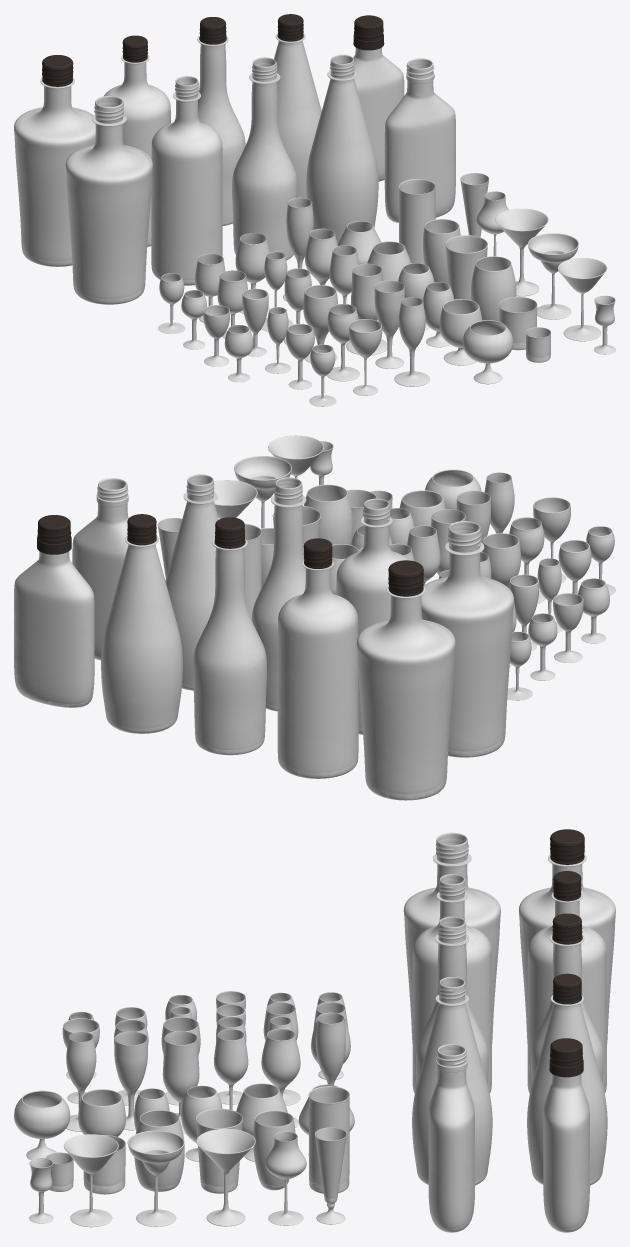
Rendered from the_ultimate_glass_pack_cups_and_bottles.glb.
3 renders of one model, top to bottom at view 1: azimuth 30°, elevation 25°; view 2: azimuth 150°, elevation 25°; view 3: azimuth 270°, elevation 25°, orthographic. The views are drawn at different scales.
Parts seen in each view (by area): view 1: Cylinder.047, Cylinder.045, Cylinder.046, Cylinder.041, Cylinder.043, Cube.001, Cylinder.040, Cylinder.042, Cube, Cylinder.044, Cylinder.001, Cylinder.003 (+38 smaller); view 2: Cylinder.046, Cylinder.044, Cylinder.047, Cylinder.040, Cube, Cylinder.042, Cylinder.041, Cylinder.043, Cube.001, Cylinder.045, Cylinder.003, Cylinder.025 (+27 smaller); view 3: Cube, Cube.001, Cylinder.041, Cylinder.040, Cylinder.044, Cylinder.045, Cylinder.046, Cylinder.047, Cylinder.042, Cylinder.043, Cylinder.001, Cylinder.011 (+26 smaller).
Boxes of the visible parts, box(x1,y1,x2,y2) form: Cylinder.047: box(65, 96, 152, 304); Cylinder.045: box(151, 76, 222, 285); Cylinder.046: box(14, 55, 95, 266); Cylinder.041: box(306, 54, 378, 243); Cylinder.043: box(232, 57, 297, 260); Cube.001: box(384, 58, 455, 222); Cylinder.040: box(274, 14, 321, 198); Cylinder.042: box(197, 17, 245, 225); Cube: box(353, 15, 404, 181); Cylinder.044: box(104, 35, 170, 246); Cylinder.001: box(399, 179, 435, 263); Cylinder.003: box(471, 256, 516, 321); Cylinder.046: box(356, 560, 455, 800); Cylinder.044: box(277, 538, 358, 778); Cylinder.047: box(421, 521, 513, 757); Cylinder.040: box(101, 514, 182, 733); Cube: box(14, 515, 94, 707); Cylinder.042: box(193, 517, 266, 755); Cylinder.041: box(165, 474, 218, 690); Cylinder.043: box(251, 477, 306, 711); Cube.001: box(72, 478, 128, 660); Cylinder.045: box(336, 498, 409, 734); Cylinder.003: box(304, 484, 352, 544); Cylinder.025: box(234, 456, 291, 528); Cube: box(543, 1038, 589, 1232); Cube.001: box(428, 1044, 474, 1232); Cylinder.041: box(412, 977, 492, 1185); Cylinder.040: box(527, 973, 607, 1185); Cylinder.044: box(527, 871, 606, 1093); Cylinder.045: box(412, 874, 491, 1093); Cylinder.046: box(519, 829, 615, 1043); Cylinder.047: box(403, 832, 500, 1043); Cylinder.042: box(531, 913, 603, 1084); Cylinder.043: box(416, 916, 488, 1084); Cylinder.001: box(308, 1086, 349, 1193); Cylinder.011: box(14, 1090, 70, 1159).
Size of the model in its own units: 9.84 by 4.77 by 12.06.
2 materials, 1 textured.
